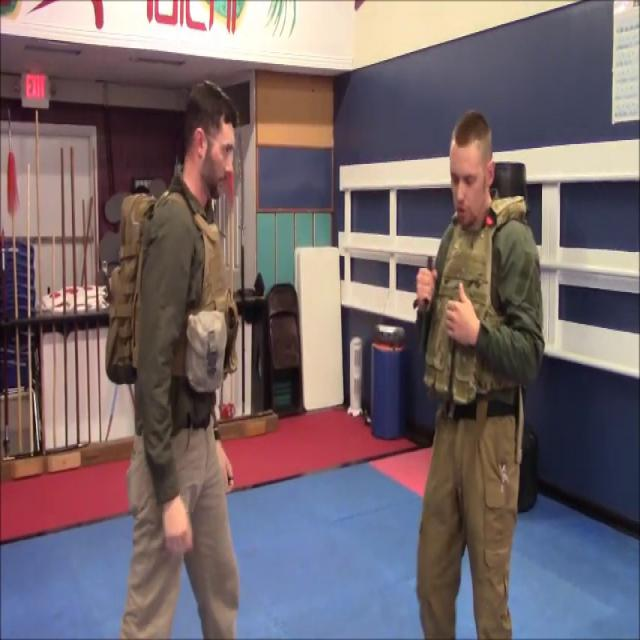knife: (415, 255, 438, 350)
